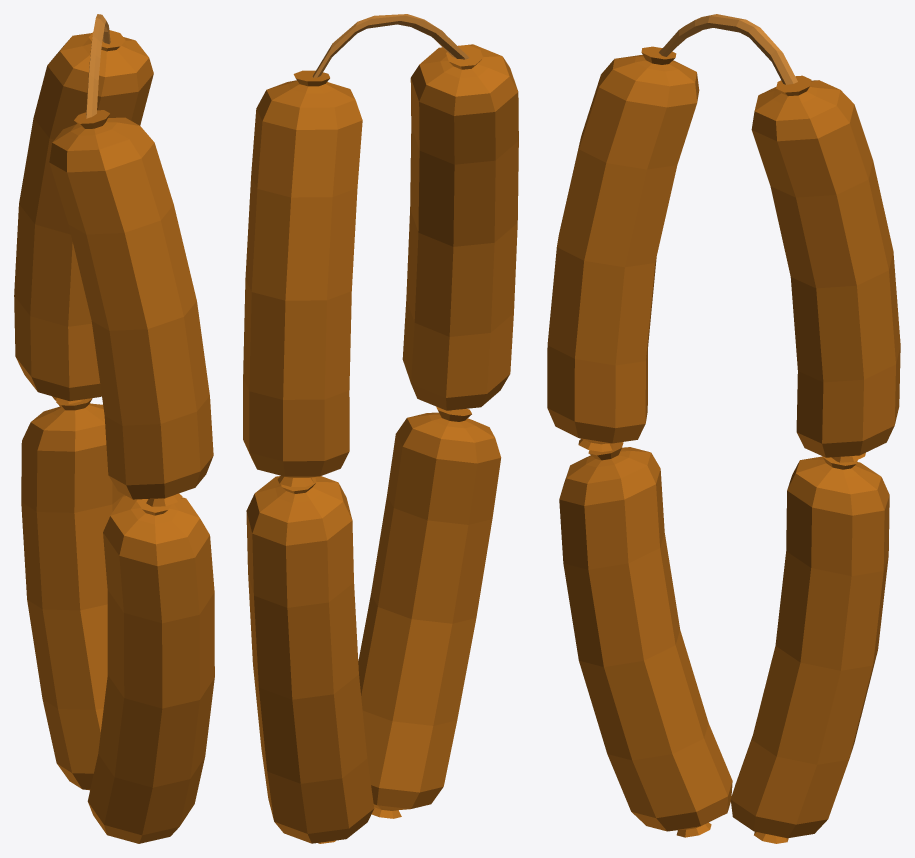
Rendered from Meat Sausage Ring 01.fbx.
The picture shows the model from 3 angles, left to right: view 1: azimuth 30°, elevation 25°; view 2: azimuth 150°, elevation 25°; view 3: azimuth 270°, elevation 25°; orthographic projection. The views are drawn at different scales.
Parts seen in each view (by area): view 1: Sausages Ring 01.002; view 2: Sausages Ring 01.002; view 3: Sausages Ring 01.002.
Part boxes in pixels (box(x1,y1,x2,y2)): Sausages Ring 01.002: box(14, 14, 214, 843); Sausages Ring 01.002: box(243, 14, 518, 843); Sausages Ring 01.002: box(547, 14, 900, 843).
Bounding box in the file's own units: 26.07 × 122 × 48.51.
